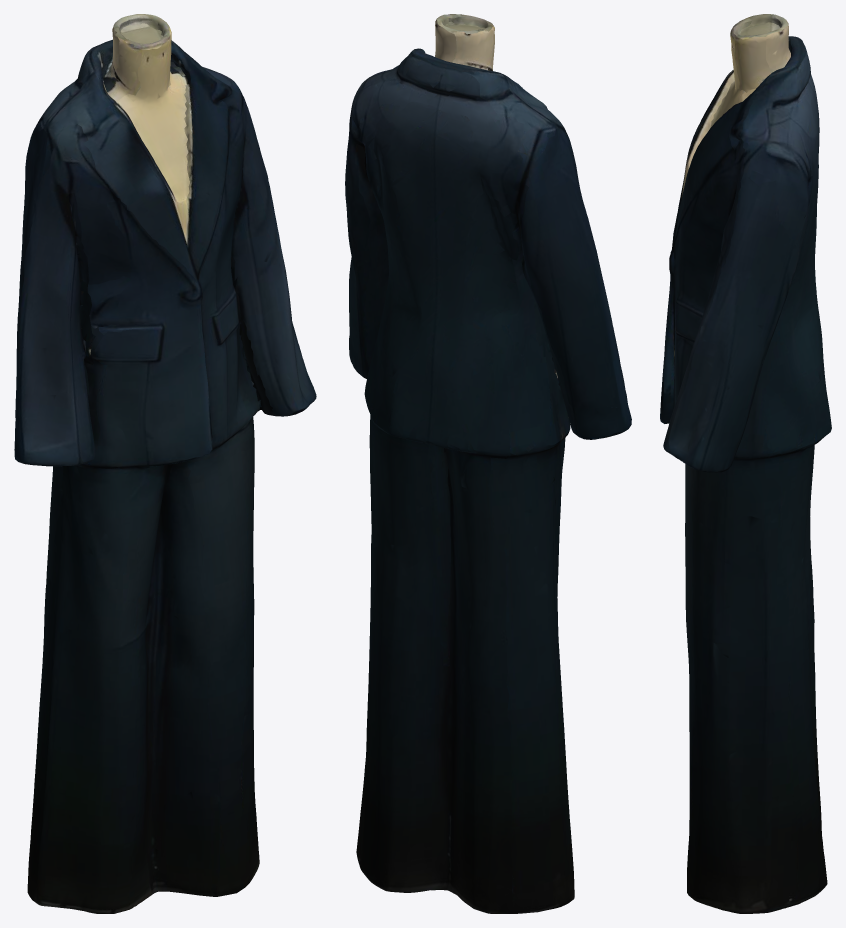
File: conjuntos-resized.glb
3 views of the same model, side by side, from view 1: azimuth 30°, elevation 25°; view 2: azimuth 150°, elevation 25°; view 3: azimuth 270°, elevation 25° (orthographic).
Visible parts, largest first — view 1: textured_mesh; view 2: textured_mesh; view 3: textured_mesh.
Part boxes in pixels (x1,y1,x2,y2): textured_mesh: (14,14,316,913); textured_mesh: (345,14,631,913); textured_mesh: (660,14,831,913).
Bounding box in the file's own units: 0.6976 × 1.99 × 0.366.
Materials: 1 (1 with a texture image).
